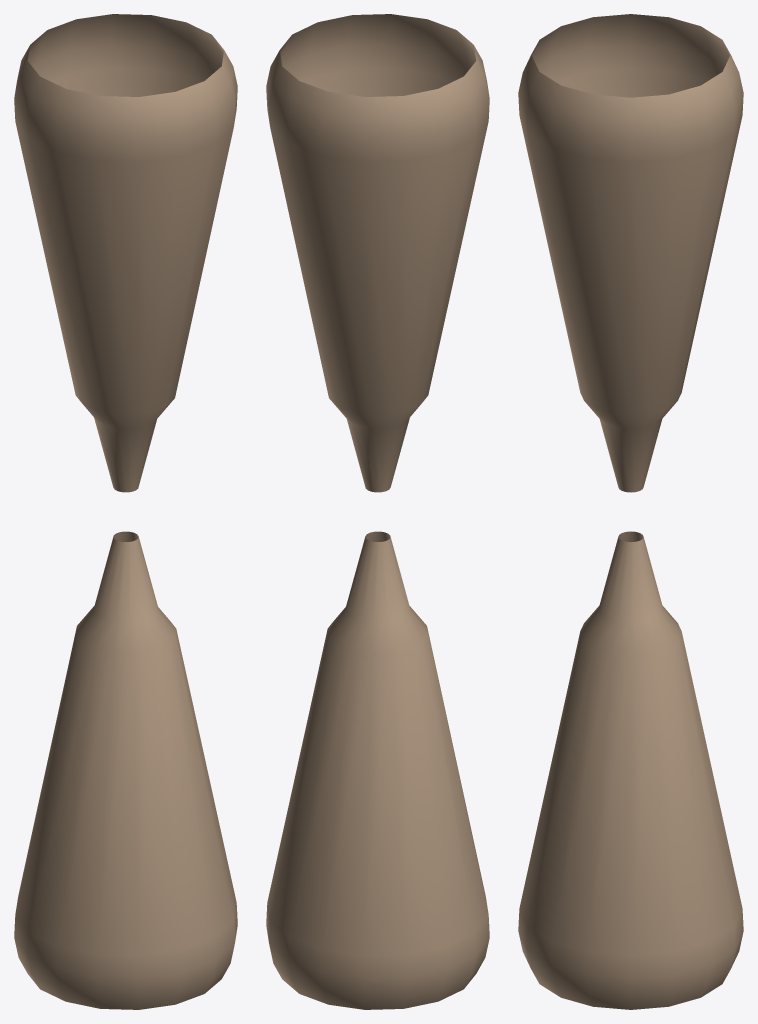
File: Level1-4_1.fbx
The picture shows the model from 3 angles, left to right: view 1: azimuth 30°, elevation 25°; view 2: azimuth 150°, elevation 25°; view 3: azimuth 270°, elevation 25°; orthographic projection.
Parts seen in each view (by area): view 1: Level1-0.005; view 2: Level1-0.005; view 3: Level1-0.005.
Part boxes in pixels (box(x1,y1,x2,y2)): Level1-0.005: box(14, 14, 237, 1009); Level1-0.005: box(266, 14, 489, 1009); Level1-0.005: box(518, 14, 743, 1009).
Bounding box in the file's own units: 28.55 × 127 × 28.55.
